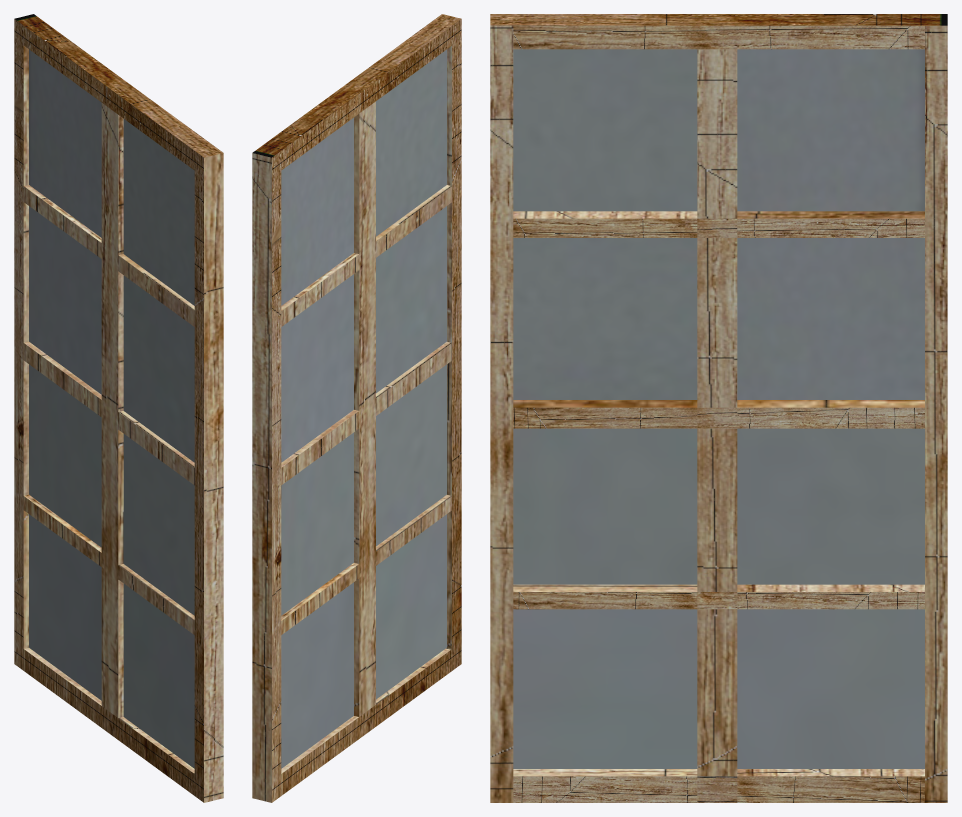
Rendered from jendela.obj.
3 views of the same model, side by side, from view 1: azimuth 30°, elevation 25°; view 2: azimuth 150°, elevation 25°; view 3: azimuth 270°, elevation 25° (orthographic). The views are drawn at different scales.
Visible parts, largest first — view 1: Cube; view 2: Cube; view 3: Cube.
Boxes of the visible parts, x1,y1,x2,y2 form: Cube: (14,14,223,802); Cube: (252,14,461,802); Cube: (490,14,947,802).
Size of the model in its own units: 0.2373 by 7.47 by 3.98.
